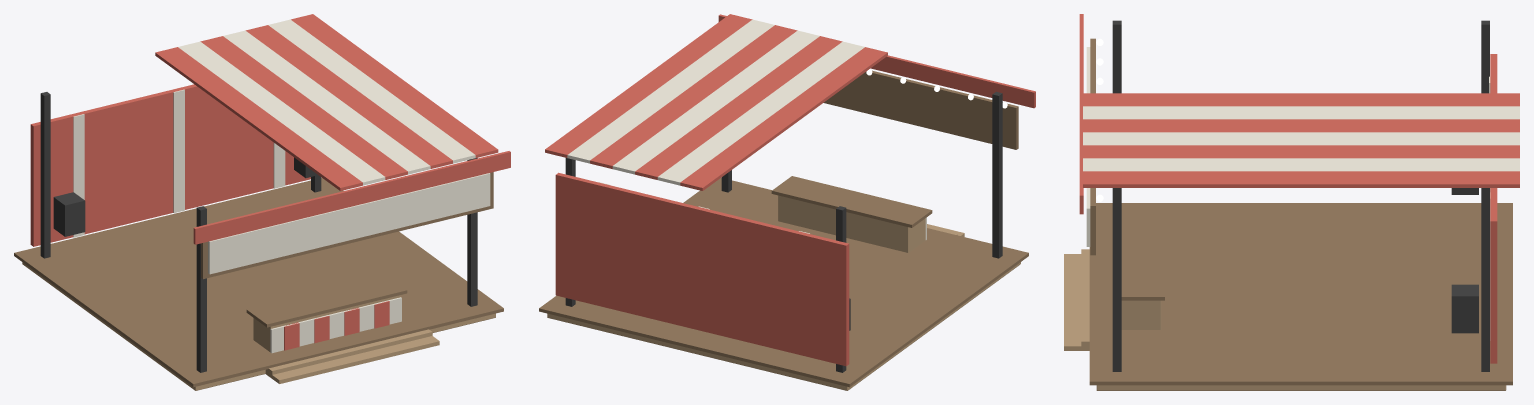
The model's file is BazaarStage.fbx.
3 renders of one model, left to right at view 1: azimuth 30°, elevation 25°; view 2: azimuth 150°, elevation 25°; view 3: azimuth 270°, elevation 25°, orthographic. The views are drawn at different scales.
Parts seen in each view (by area): view 1: BazaarStage; view 2: BazaarStage; view 3: BazaarStage.
Part boxes in pixels (<box>): BazaarStage: <box>14,14,510,390</box>; BazaarStage: <box>539,14,1035,390</box>; BazaarStage: <box>1064,14,1519,390</box>.
Size of the model in its own units: 6.3 by 3.31 by 6.68.
